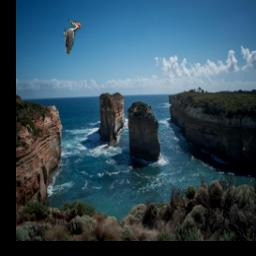Woodpecker: (64, 21, 81, 55)
